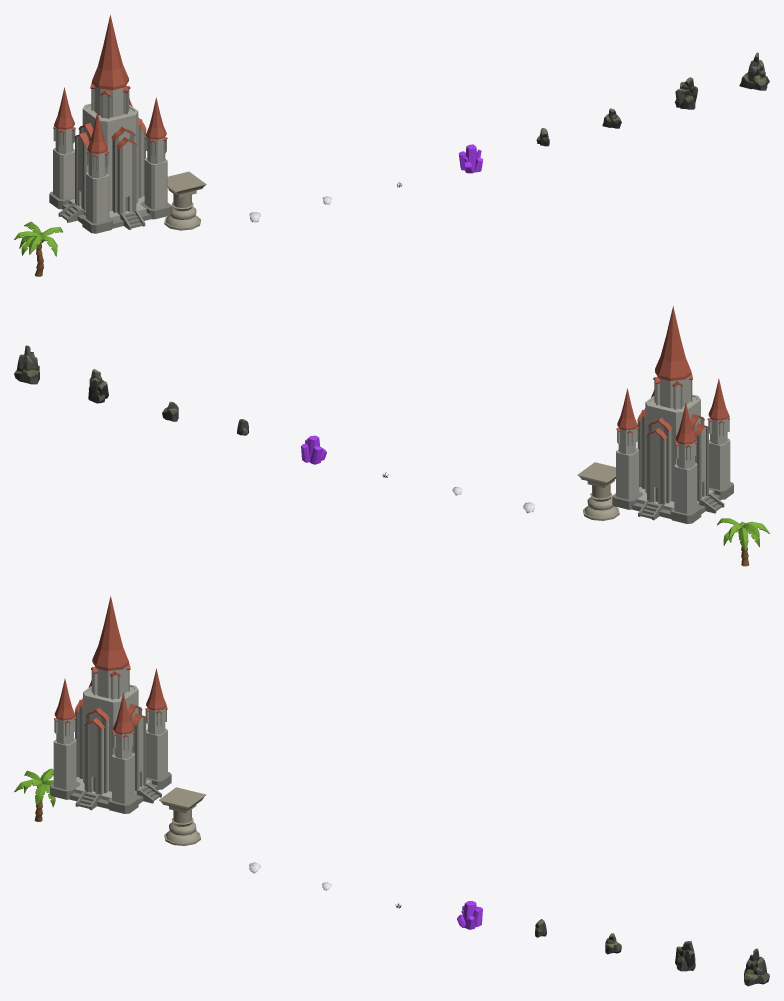
Rendered from kit_assets.fbx.
3 renders of one model, top to bottom at view 1: azimuth 30°, elevation 25°; view 2: azimuth 150°, elevation 25°; view 3: azimuth 330°, elevation 25°, orthographic.
Parts seen in each view (by area): view 1: KIT_Templo, KIT_Coluna, KIT_Palmeira, KIT_Rocha4, KIT_Rocha3, KIT_Cristal; view 2: KIT_Templo, KIT_Coluna, KIT_Palmeira, KIT_Rocha4, KIT_Cristal, KIT_Rocha3; view 3: KIT_Templo, KIT_Coluna, KIT_Palmeira, KIT_Rocha4.
Boxes of the visible parts, x1,y1,x2,y2 form: KIT_Templo: [49, 14, 171, 233]; KIT_Coluna: [164, 171, 206, 230]; KIT_Palmeira: [14, 221, 62, 276]; KIT_Rocha4: [739, 52, 769, 90]; KIT_Rocha3: [674, 77, 697, 109]; KIT_Cristal: [458, 144, 483, 173]; KIT_Templo: [612, 306, 733, 523]; KIT_Coluna: [577, 462, 619, 520]; KIT_Palmeira: [717, 518, 769, 566]; KIT_Rocha4: [14, 345, 39, 384]; KIT_Cristal: [301, 435, 326, 464]; KIT_Rocha3: [88, 369, 108, 403]; KIT_Templo: [50, 596, 171, 813]; KIT_Coluna: [159, 787, 206, 845]; KIT_Palmeira: [14, 768, 55, 821]; KIT_Rocha4: [744, 948, 769, 986].
Size of the model in its own units: 415 by 129 by 52.
Materials: 11 (4 with a texture image).
